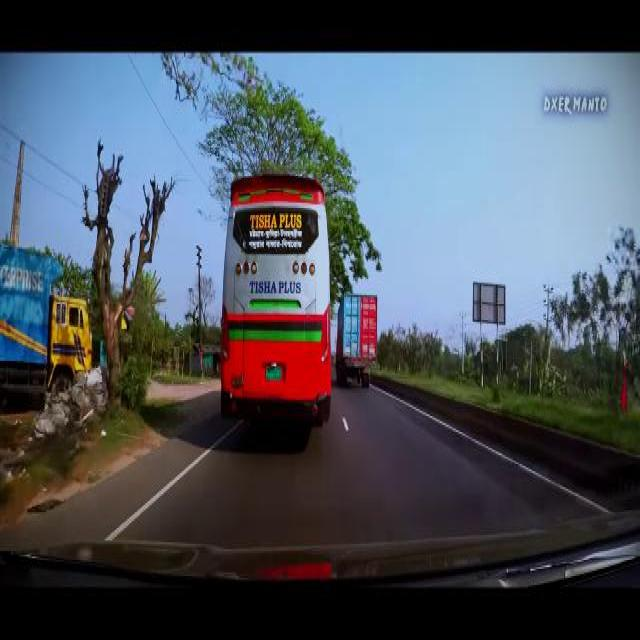bus: (219, 171, 331, 423)
truck: (0, 244, 92, 396), (334, 292, 378, 388)
